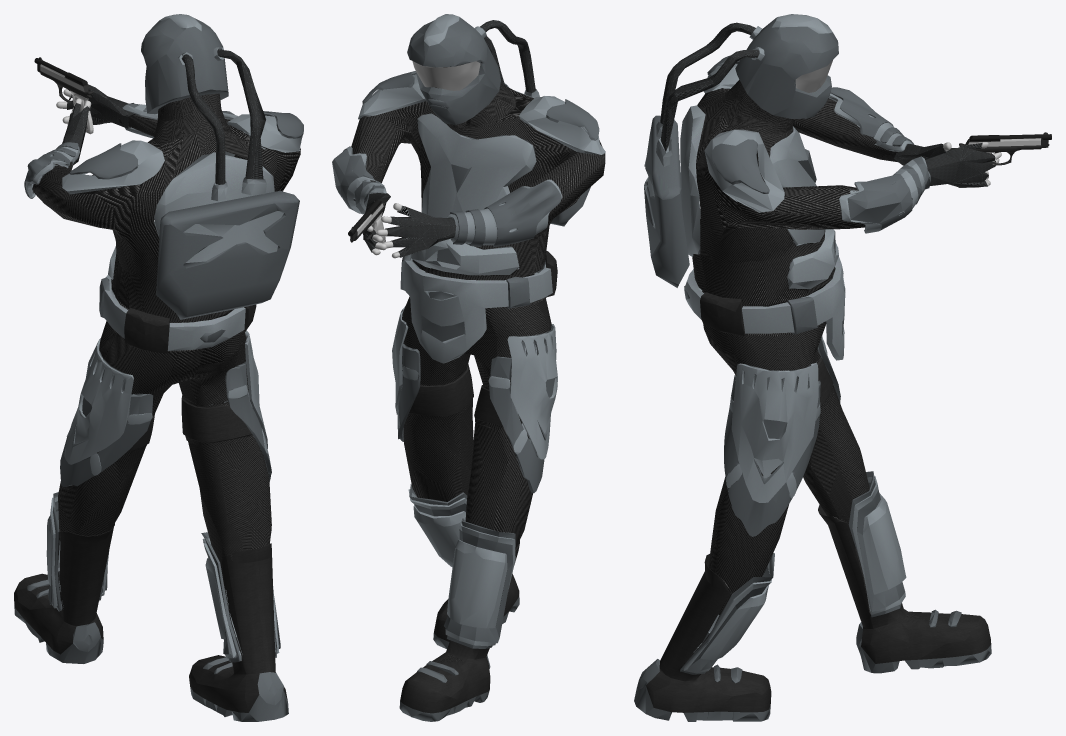
The picture shows the model from 3 angles, left to right: view 1: azimuth 30°, elevation 25°; view 2: azimuth 150°, elevation 25°; view 3: azimuth 270°, elevation 25°; orthographic projection. The views are drawn at different scales.
Visible parts, largest first — view 1: personajeskefix:personaje:extrudedSurface2 polySurface66, personajeskefix:personaje:PANTALON polySurface66, personajeskefix:personaje:bota1 polySurface66, personajeskefix:personaje:CAMISETABUENA polySurface66, personajeskefix:personaje:pPipe4 polySurface66, personajeskefix:personaje:pCube4 polySurface66, personajeskefix:personaje:cosoarmdaurapierna1 polySurface66, personajeskefix:personaje:cinturon polySurface66, personajeskefix:personaje:polySurface6 polySurface66, personajeskefix:personaje:armadbota1 polySurface66, personajeskefix:personaje:cosoarmadurapierna2 polySurface66, personajeskefix:personaje:polySurface11 polySurface66 (+6 smaller); view 2: personajeskefix:personaje:pPipe4 polySurface66, personajeskefix:personaje:PANTALON polySurface66, personajeskefix:personaje:CAMISETABUENA polySurface66, personajeskefix:personaje:cinturon polySurface66, personajeskefix:personaje:armadbota1 polySurface66, personajeskefix:personaje:extrudedSurface2 polySurface66, personajeskefix:personaje:pCube4 polySurface66, personajeskefix:personaje:bota1 polySurface66, personajeskefix:personaje:cosoarmdaurapierna1 polySurface66, personajeskefix:personaje:polySurface2 polySurface66, personajeskefix:personaje:polySurface6 polySurface66, personajeskefix:personaje:gafas polySurface66 (+8 smaller); view 3: personajeskefix:personaje:CAMISETABUENA polySurface66, personajeskefix:personaje:bota1 polySurface66, personajeskefix:personaje:pPipe4 polySurface66, personajeskefix:personaje:extrudedSurface2 polySurface66, personajeskefix:personaje:PANTALON polySurface66, personajeskefix:personaje:pCube4 polySurface66, personajeskefix:personaje:cinturon polySurface66, personajeskefix:personaje:armadbota1 polySurface66, personajeskefix:personaje:cosoarmadurapierna2 polySurface66, personajeskefix:personaje:hombro1 polySurface66, personajeskefix:personaje:polySurface2 polySurface66, pistola:Cylinder001 polySurface66 (+3 smaller).
Part boxes in pixels (<box>): personajeskefix:personaje:extrudedSurface2 polySurface66: <box>141,14,299,319</box>; personajeskefix:personaje:PANTALON polySurface66: <box>58,296,271,589</box>; personajeskefix:personaje:bota1 polySurface66: <box>14,524,288,721</box>; personajeskefix:personaje:CAMISETABUENA polySurface66: <box>32,93,300,351</box>; personajeskefix:personaje:pPipe4 polySurface66: <box>54,84,302,278</box>; personajeskefix:personaje:pCube4 polySurface66: <box>48,330,280,662</box>; personajeskefix:personaje:cosoarmdaurapierna1 polySurface66: <box>64,338,152,475</box>; personajeskefix:personaje:cinturon polySurface66: <box>99,275,256,353</box>; personajeskefix:personaje:polySurface6 polySurface66: <box>127,395,252,451</box>; personajeskefix:personaje:armadbota1 polySurface66: <box>46,497,279,658</box>; personajeskefix:personaje:cosoarmadurapierna2 polySurface66: <box>209,362,271,481</box>; personajeskefix:personaje:polySurface11 polySurface66: <box>181,54,225,184</box>; personajeskefix:personaje:pPipe4 polySurface66: <box>332,74,605,275</box>; personajeskefix:personaje:PANTALON polySurface66: <box>402,269,551,548</box>; personajeskefix:personaje:CAMISETABUENA polySurface66: <box>351,64,605,305</box>; personajeskefix:personaje:cinturon polySurface66: <box>400,246,557,363</box>; personajeskefix:personaje:armadbota1 polySurface66: <box>408,489,515,646</box>; personajeskefix:personaje:extrudedSurface2 polySurface66: <box>407,14,590,226</box>; personajeskefix:personaje:pCube4 polySurface66: <box>392,306,554,648</box>; personajeskefix:personaje:bota1 polySurface66: <box>399,540,519,721</box>; personajeskefix:personaje:cosoarmdaurapierna1 polySurface66: <box>488,324,557,459</box>; personajeskefix:personaje:polySurface2 polySurface66: <box>450,181,561,246</box>; personajeskefix:personaje:polySurface6 polySurface66: <box>409,364,502,426</box>; personajeskefix:personaje:gafas polySurface66: <box>412,61,480,90</box>; personajeskefix:personaje:CAMISETABUENA polySurface66: <box>692,79,912,336</box>; personajeskefix:personaje:bota1 polySurface66: <box>634,505,991,721</box>; personajeskefix:personaje:pPipe4 polySurface66: <box>680,63,995,289</box>; personajeskefix:personaje:extrudedSurface2 polySurface66: <box>644,14,838,287</box>; personajeskefix:personaje:PANTALON polySurface66: <box>702,268,869,614</box>; personajeskefix:personaje:pCube4 polySurface66: <box>680,337,905,674</box>; personajeskefix:personaje:cinturon polySurface66: <box>684,241,845,360</box>; personajeskefix:personaje:armadbota1 polySurface66: <box>683,476,906,673</box>; personajeskefix:personaje:cosoarmadurapierna2 polySurface66: <box>724,371,820,536</box>; personajeskefix:personaje:hombro1 polySurface66: <box>711,139,769,193</box>; personajeskefix:personaje:polySurface2 polySurface66: <box>830,87,913,146</box>; pistola:Cylinder001 polySurface66: <box>958,132,1051,187</box>.
Size of the model in its own units: 3.64 by 9.48 by 5.18.
